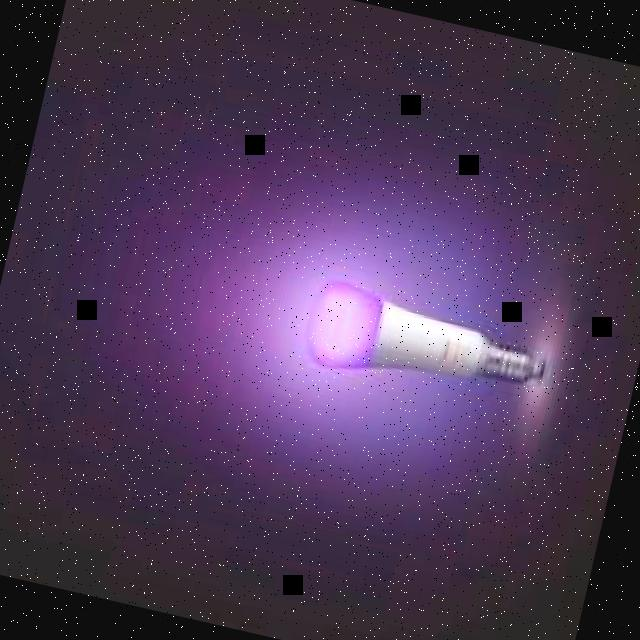light_bulb: (284, 255, 570, 434)
